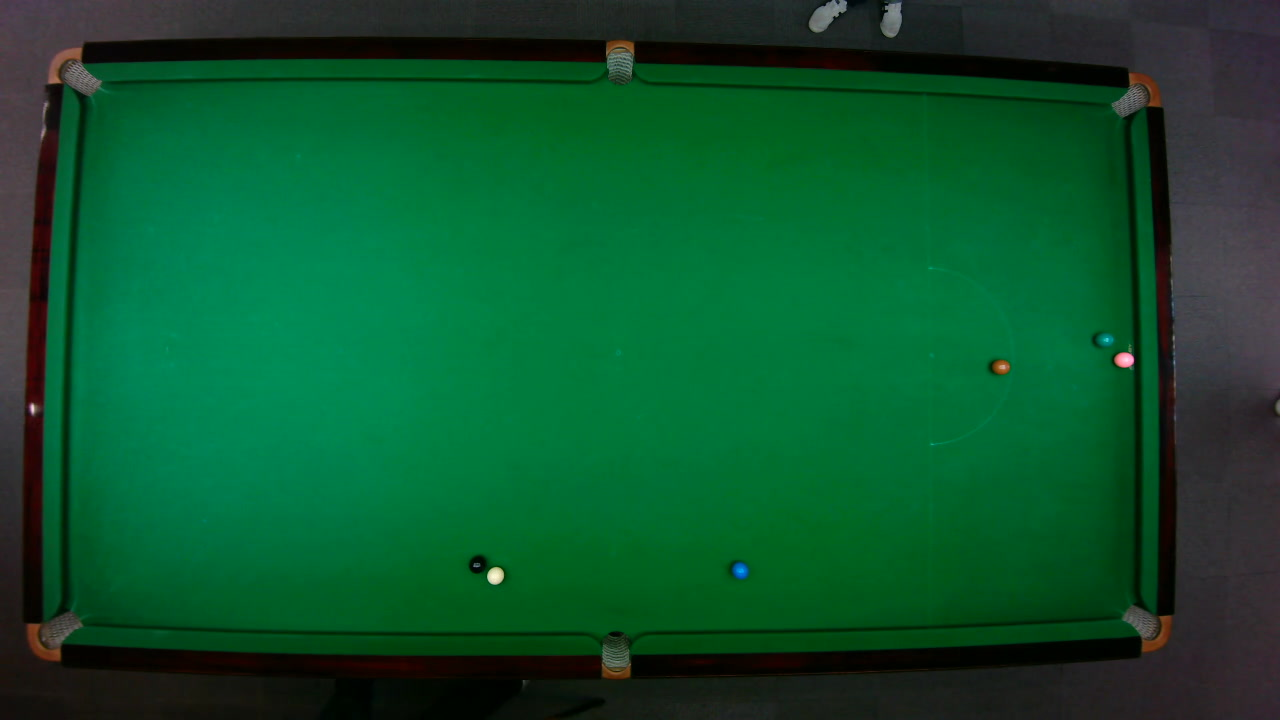bag: (25, 609, 84, 661), (45, 46, 102, 96), (1119, 603, 1171, 652), (1108, 71, 1161, 118), (600, 629, 630, 679), (605, 38, 633, 85)
black: (467, 555, 485, 572)
blue: (730, 560, 749, 579)
brown: (990, 358, 1010, 374)
green: (1093, 330, 1114, 347)
pink: (1112, 350, 1135, 368)
white: (485, 565, 504, 585)
zone: (927, 265, 1013, 445)
